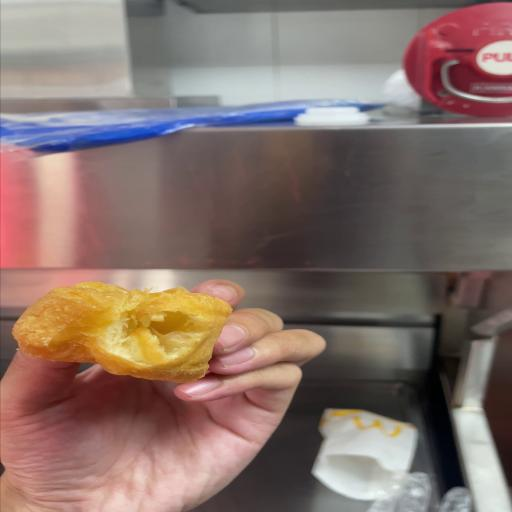brand_golden_defect: (13, 282, 231, 382)
